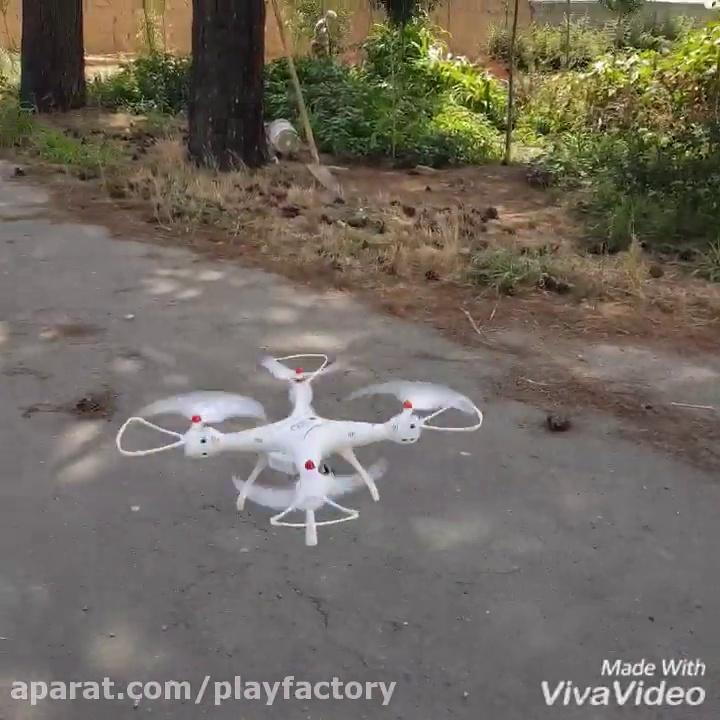drone: (113, 351, 487, 546)
